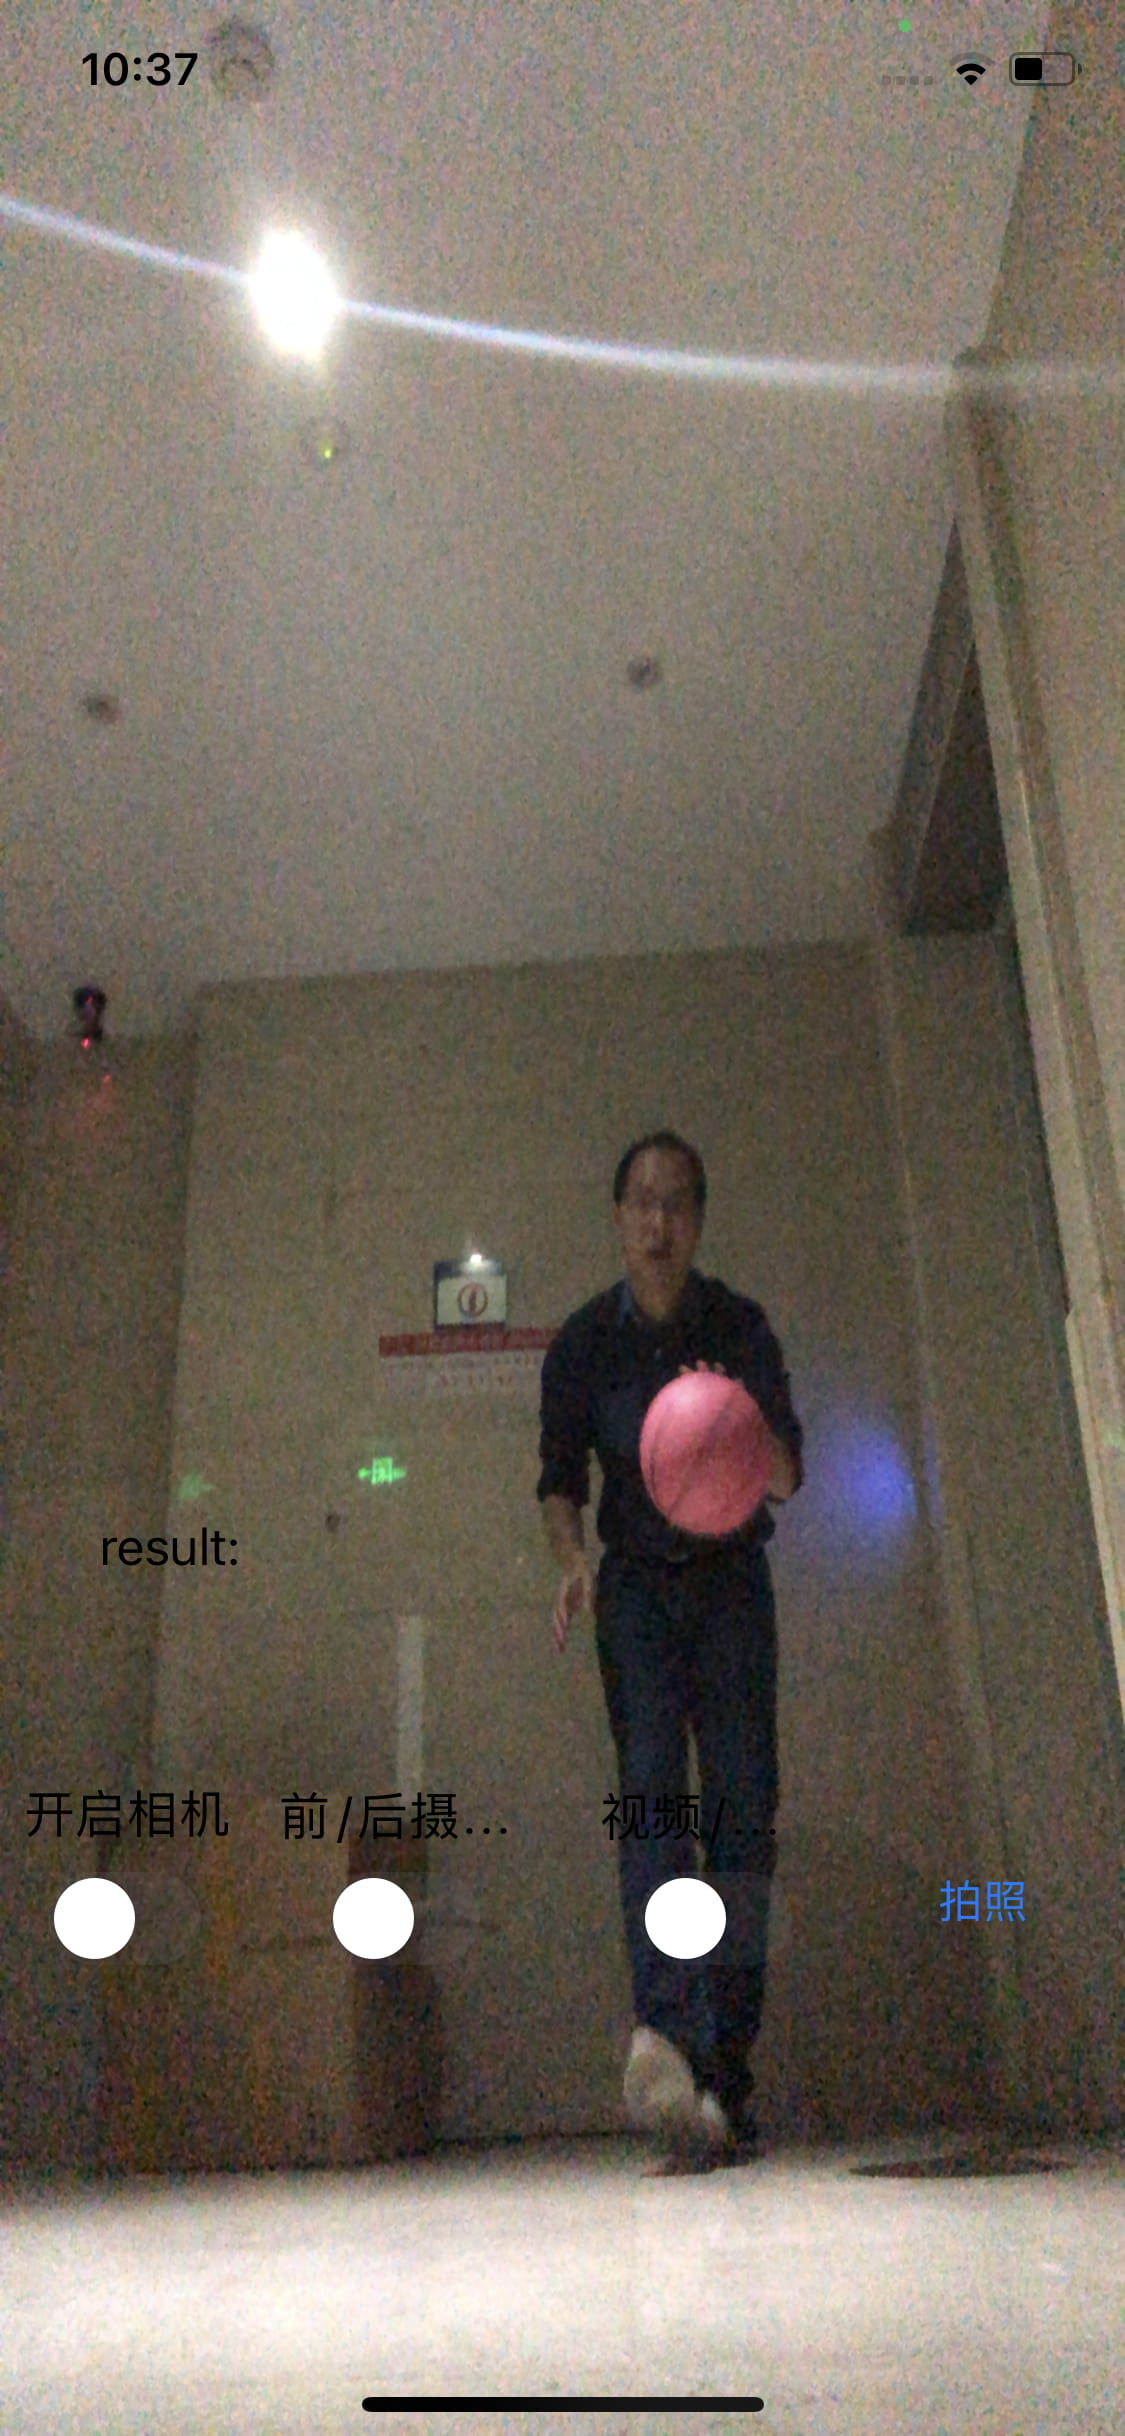ball: (636, 1373, 775, 1538)
